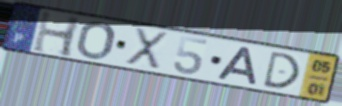5: (172, 35, 210, 76)
A: (215, 45, 260, 87)
D: (260, 50, 302, 91)
H: (30, 8, 84, 60)
O: (75, 21, 118, 61)
X: (123, 26, 170, 73)
